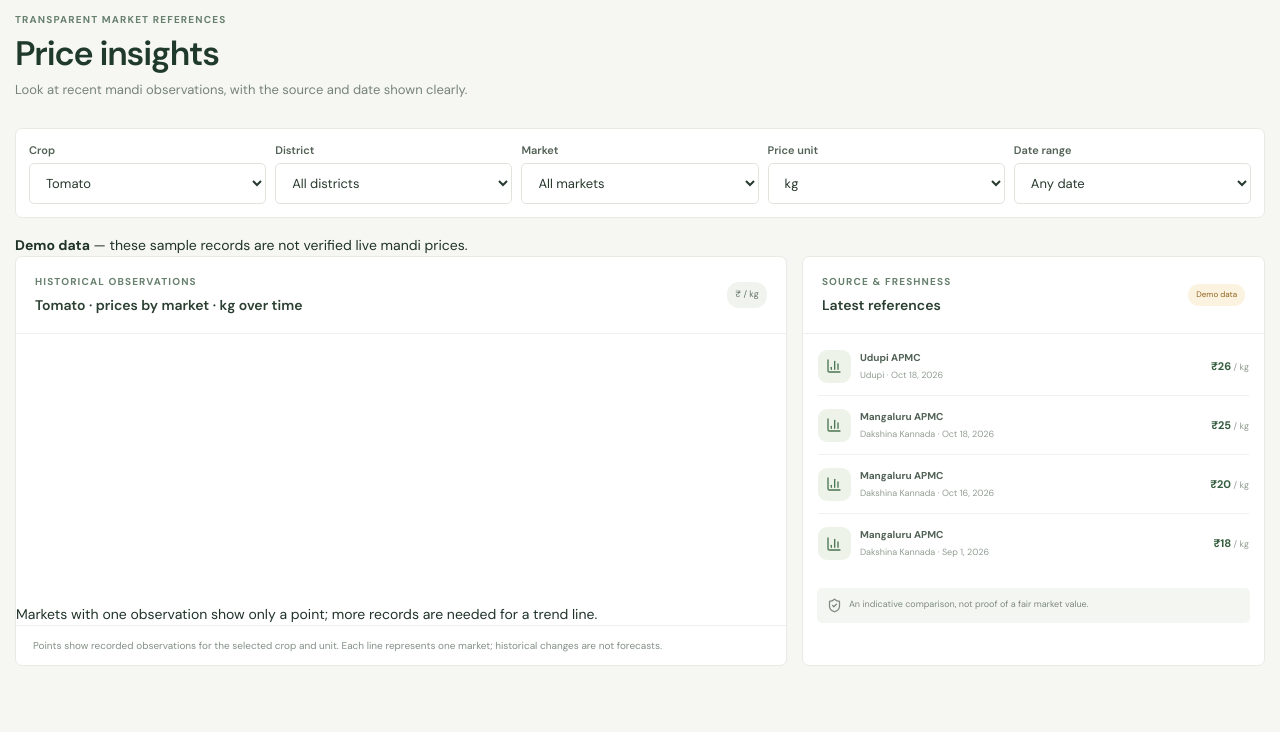
Scenario: Price Insights page › loads real API observations, labels demo records, and filters crop and market
The width and height of the screenshot is (1280, 732).
Expected: the text "these sample records are not verified" is shown, [90,236,468,254]
Expected: the 1st text "Demo data" is shown, [15,236,90,254]
Select "Udupi APMC" in the dropdown labelled "Market": {"x": 640, "y": 184} [521,163,759,204]
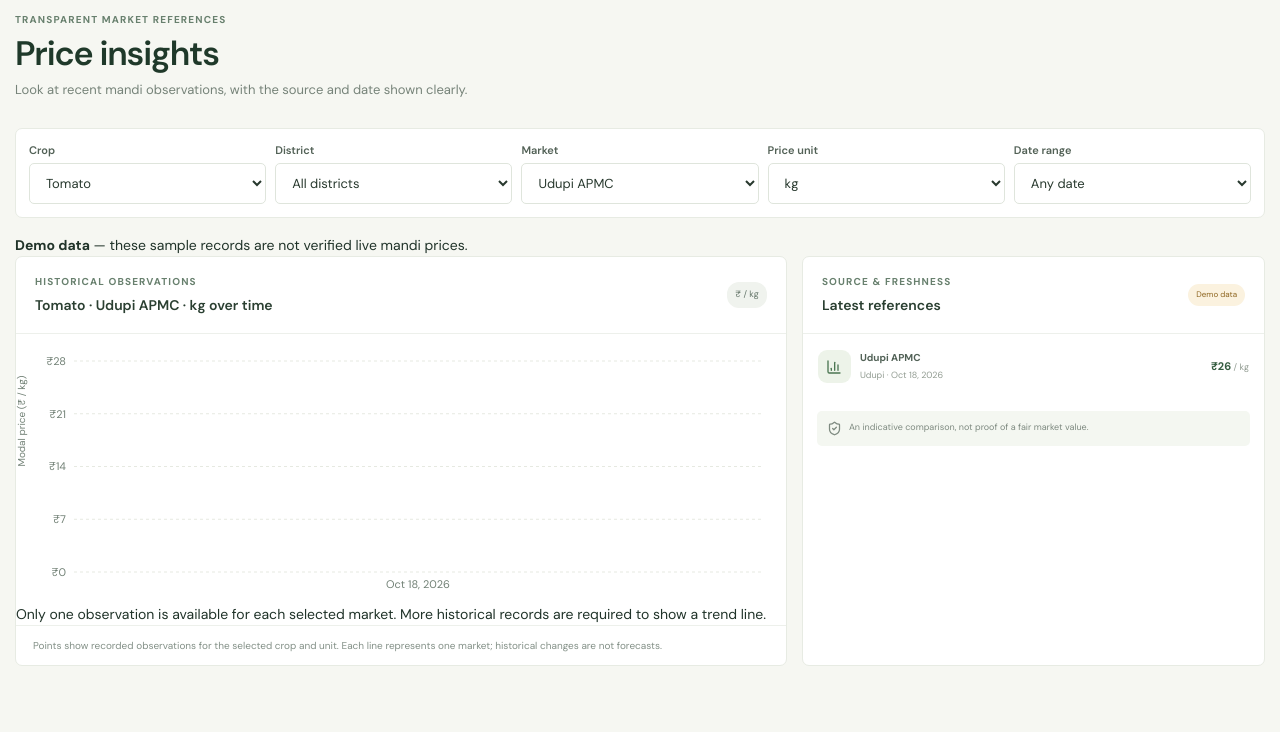
Expected: the text "₹26" is shown, [1211,359,1231,373]
Now the text "Only one observation is available for each selected market" is shown, box [16,605,766,623]
Select "Banana" in the dropdown labelled "Crop": {"x": 148, "y": 184} [29,163,266,204]
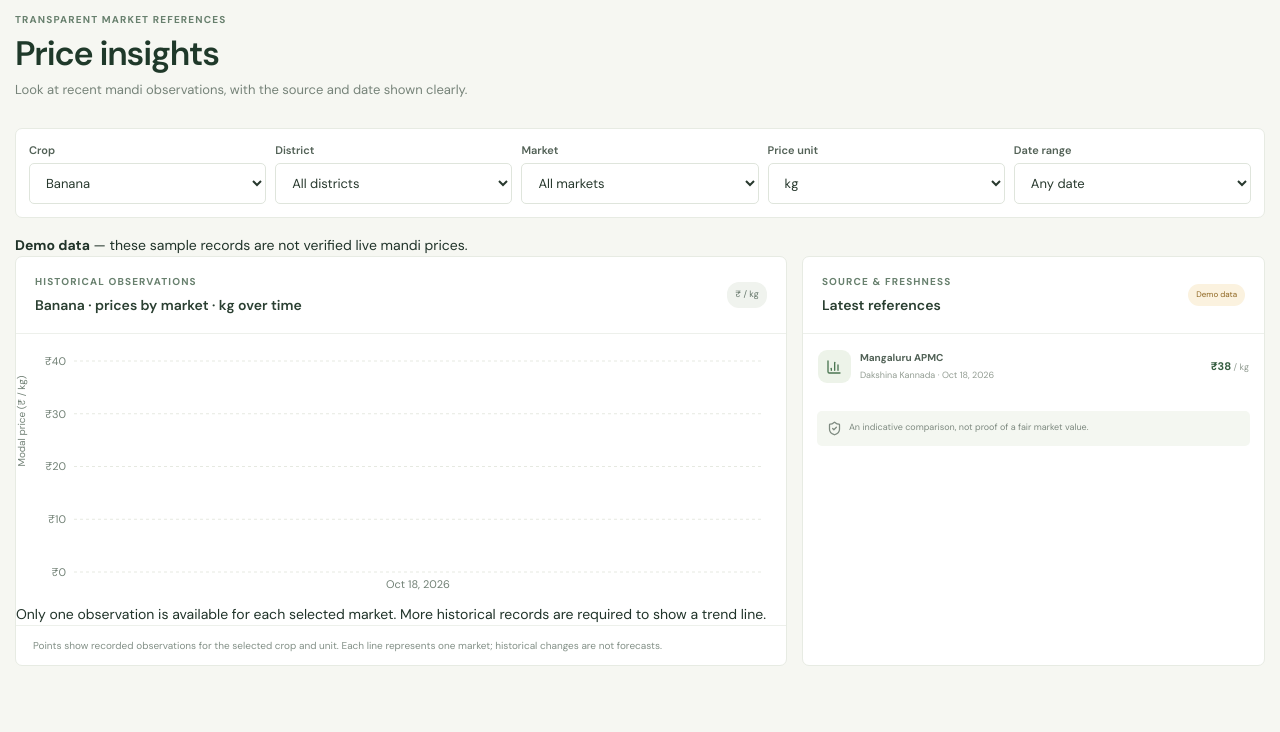
Now the text "₹38" is shown, box [1211,359,1231,373]
Now the heading "Banana · prices by market · kg over time" is shown, box [35,295,302,316]
